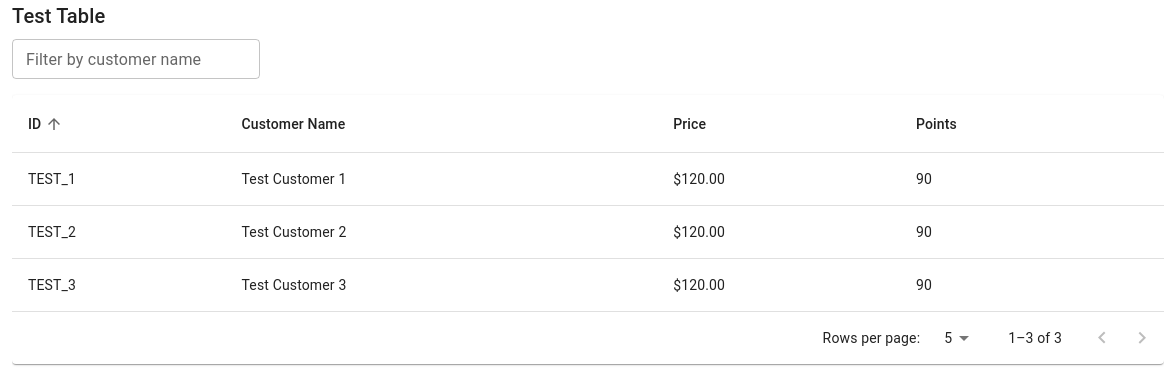
it: ComTable Component › filters data based on search input
In the field labelled "Filter by customer name": (136, 59) [12, 39, 260, 79], type "Test Customer 2"
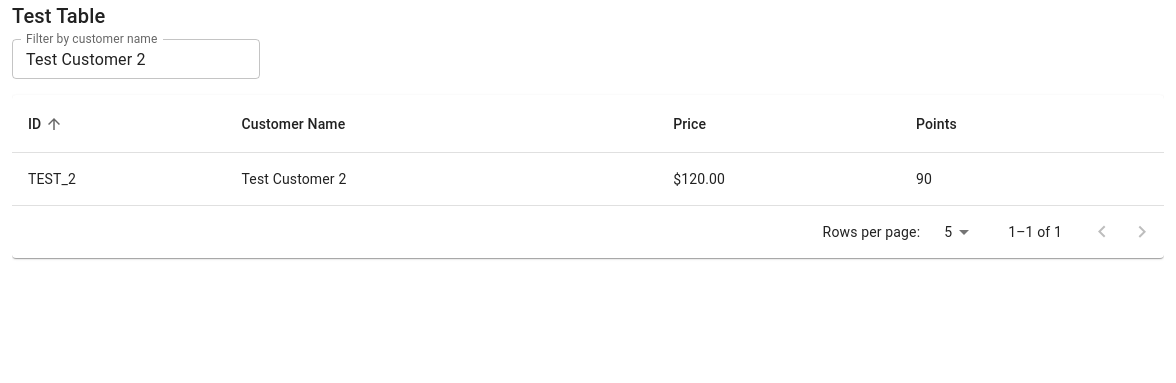
expect the text "Test Customer 2" is shown: met, box [226, 153, 657, 206]
expect the text "Test Customer 1" is gone: met
expect the text "Test Customer 3" is gone: met
